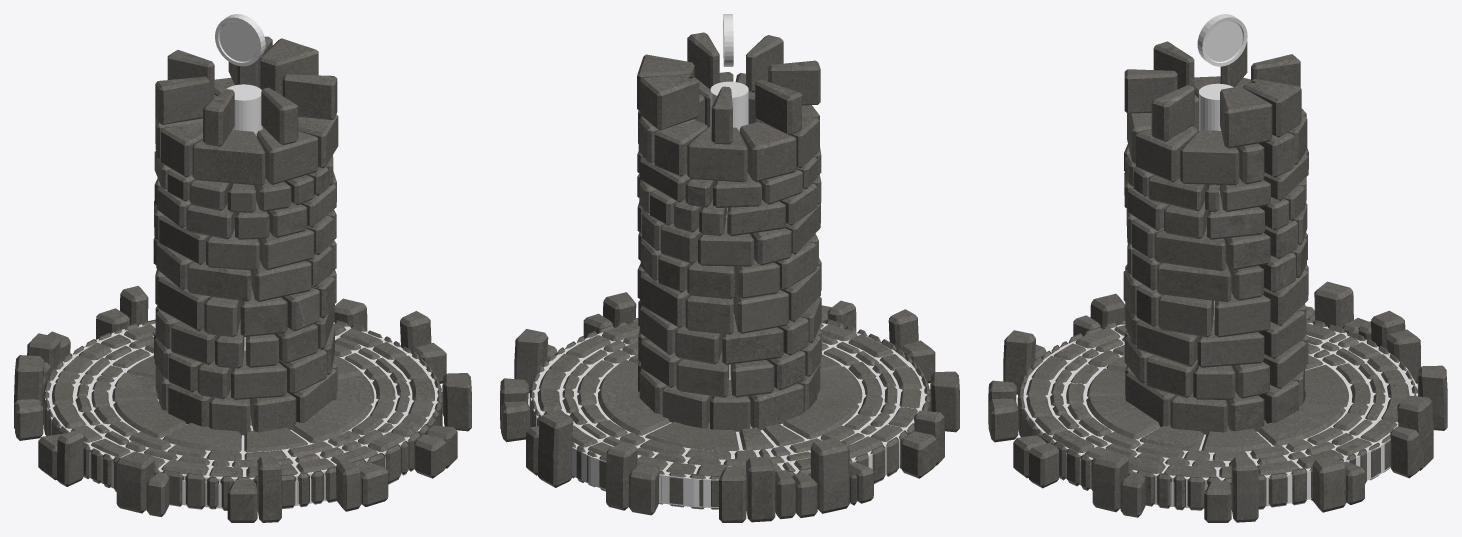
Rendered from coin generator.fbx.
3 renders of one model, left to right at view 1: azimuth 30°, elevation 25°; view 2: azimuth 150°, elevation 25°; view 3: azimuth 270°, elevation 25°, orthographic.
Visible parts, largest first — view 1: Wall.039, Wall.035, Circle.008, Cylinder.007, Cylinder.006, Circle.007; view 2: Wall.039, Wall.035, Circle.008, Cylinder.006, Cylinder.007; view 3: Wall.039, Wall.035, Circle.008, Cylinder.007, Cylinder.006.
Part boxes in pixels (x1,y1,x2,y2): Wall.039: (153, 36, 338, 435); Wall.035: (14, 285, 471, 522); Circle.008: (45, 322, 438, 482); Cylinder.007: (215, 14, 265, 66); Cylinder.006: (226, 84, 262, 350); Circle.007: (88, 453, 408, 508); Wall.039: (637, 32, 821, 431); Wall.035: (500, 292, 959, 522); Circle.008: (530, 323, 926, 507); Cylinder.006: (710, 81, 748, 379); Cylinder.007: (723, 14, 733, 66); Wall.039: (1123, 41, 1308, 434); Wall.035: (988, 281, 1447, 522); Circle.008: (1023, 322, 1417, 505); Cylinder.007: (1197, 14, 1247, 66); Cylinder.006: (1199, 83, 1233, 319).
Bounding box in the file's own units: 1734 × 1717 × 1737.
